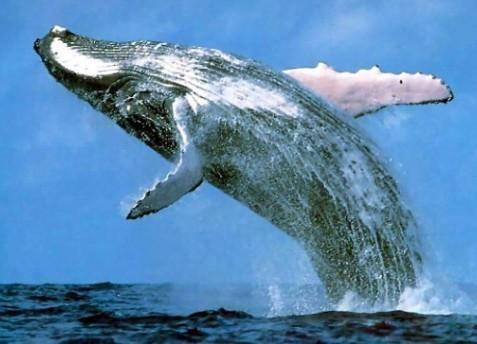fish: (31, 23, 454, 311)
